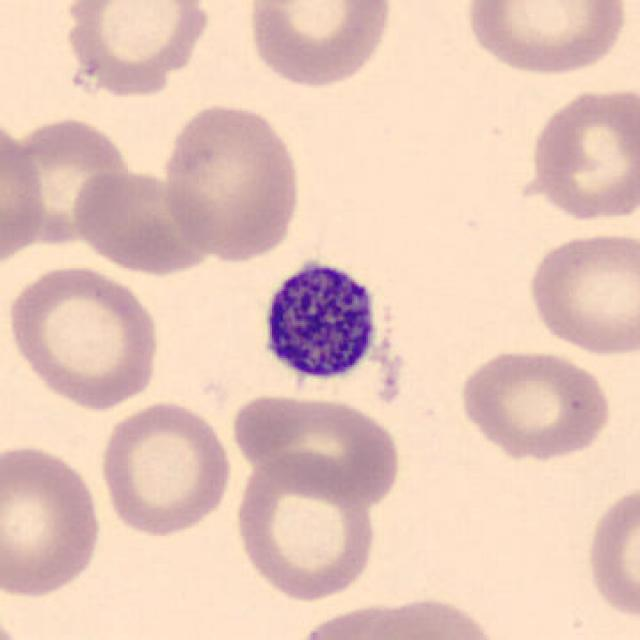Platelets: (247, 245, 414, 406)
RBC: (156, 99, 306, 262), (3, 261, 164, 412), (230, 448, 380, 605), (231, 390, 405, 508), (95, 396, 236, 540), (453, 345, 615, 462), (519, 81, 638, 226), (0, 441, 105, 601), (55, 0, 215, 100), (523, 227, 638, 358), (13, 109, 128, 240), (78, 168, 215, 272), (242, 0, 396, 92), (460, 0, 631, 79), (0, 104, 50, 279), (582, 478, 638, 626), (362, 592, 507, 640), (288, 599, 436, 640), (0, 610, 28, 640)
